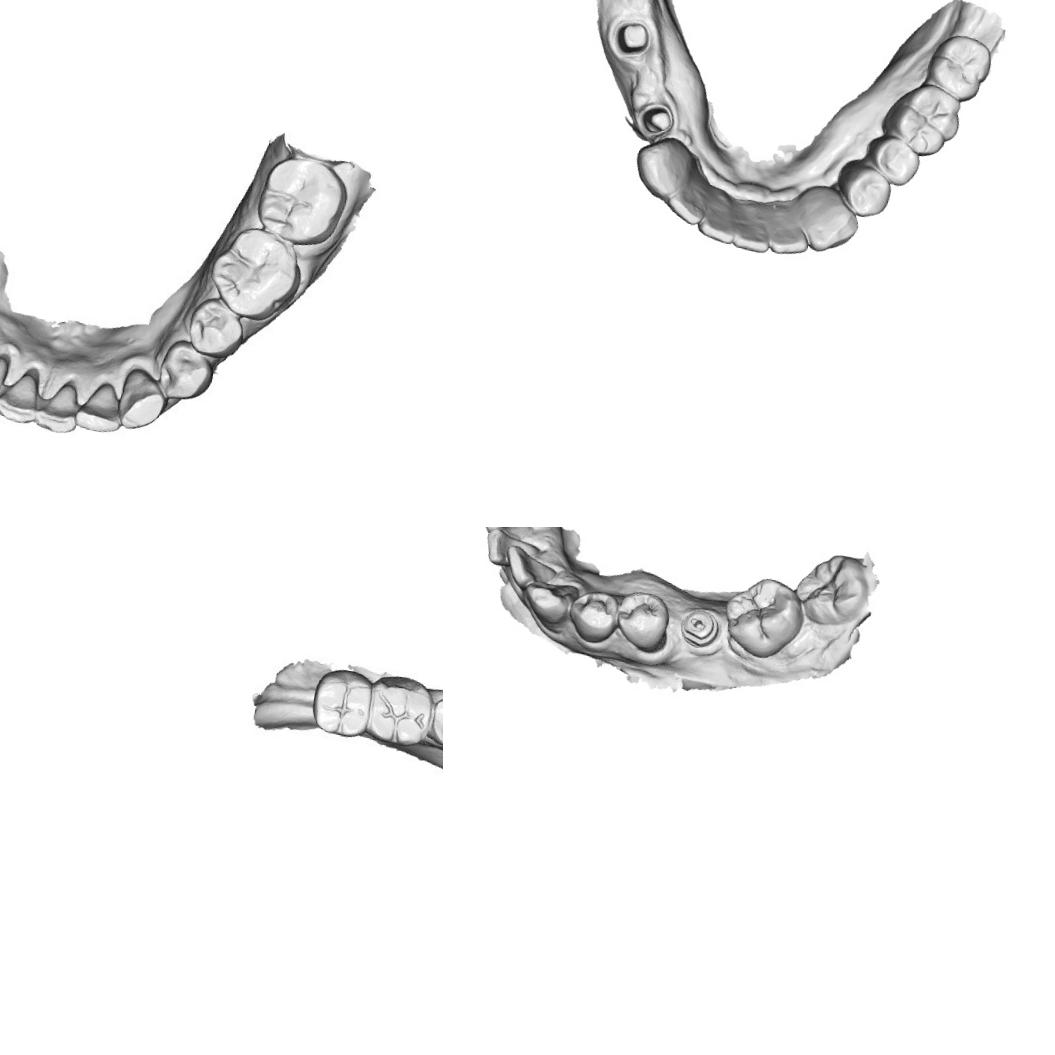abutment: (609, 13, 656, 62), (634, 99, 676, 140)
canine: (628, 130, 696, 204), (112, 363, 174, 436), (516, 574, 580, 637), (800, 197, 863, 258)
implant_minus: (674, 603, 723, 651)
incisor: (32, 374, 86, 439), (0, 357, 49, 428), (499, 541, 562, 596), (74, 375, 125, 439), (480, 527, 541, 571), (664, 181, 709, 230), (766, 214, 813, 260), (693, 202, 739, 248), (730, 214, 773, 256)
molar: (202, 221, 308, 327), (251, 148, 352, 250), (715, 569, 810, 665), (789, 545, 878, 634), (876, 75, 966, 162), (366, 668, 437, 747), (922, 28, 995, 102), (308, 666, 371, 736)
premolar: (180, 292, 249, 360), (609, 584, 674, 656), (152, 336, 214, 407), (832, 156, 895, 220), (859, 130, 924, 190), (563, 584, 623, 647), (429, 686, 443, 752)
